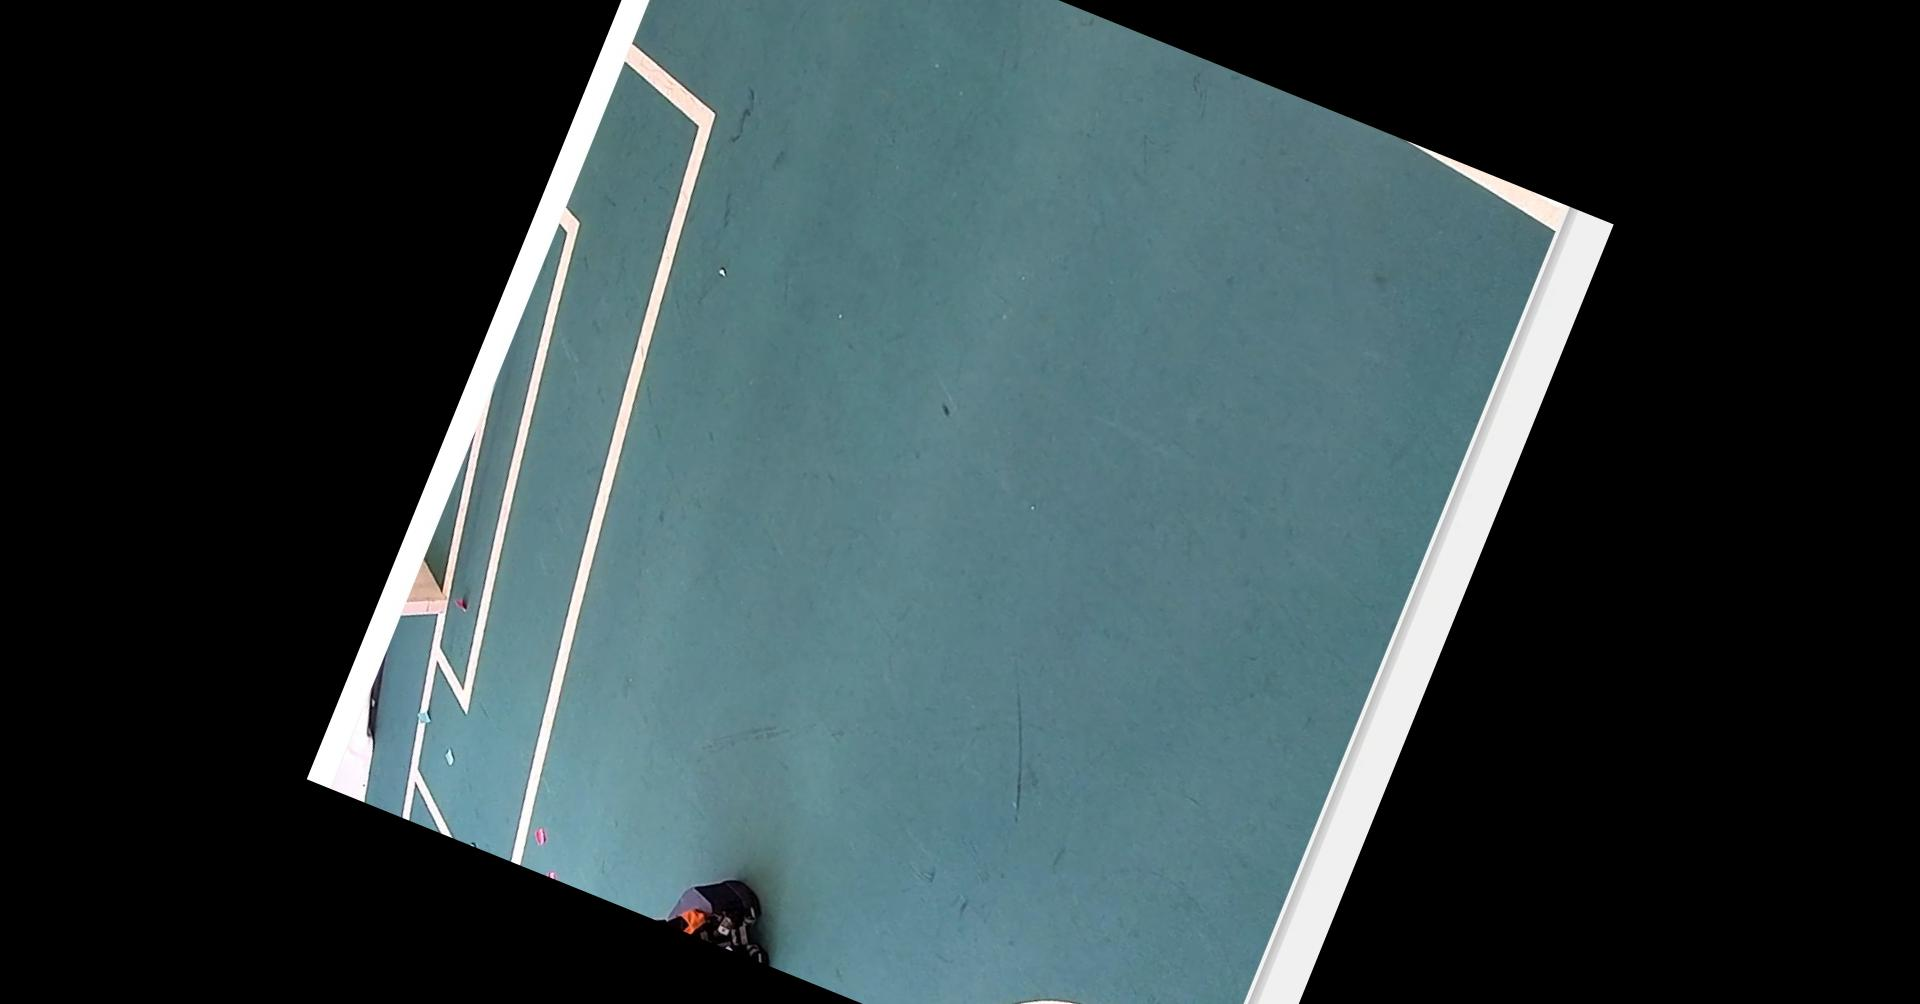Team_Red: (585, 822, 794, 965)
